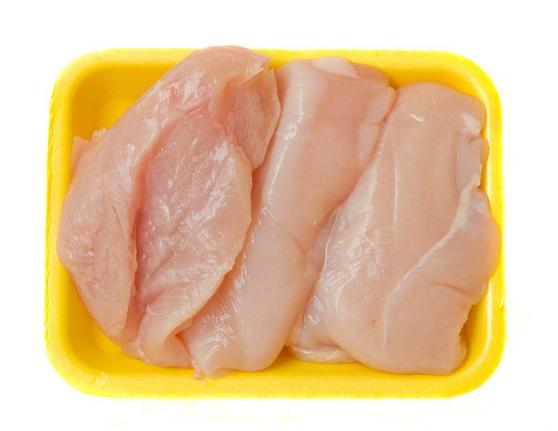chicken_fillet: (51, 45, 275, 366), (184, 61, 395, 385), (321, 76, 500, 375)
